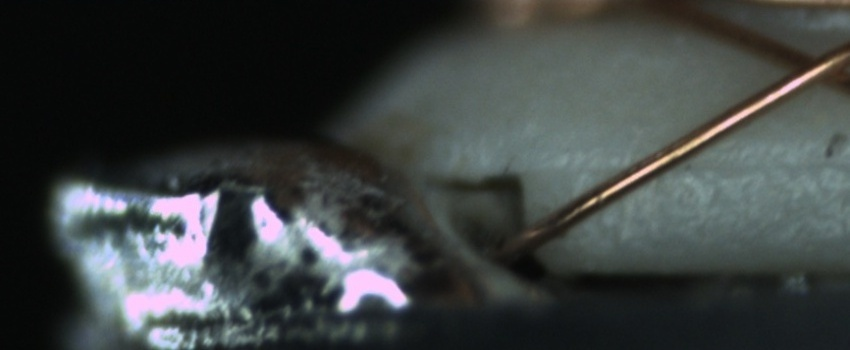CL: (765, 37, 847, 99)
DL: (602, 131, 850, 198)
